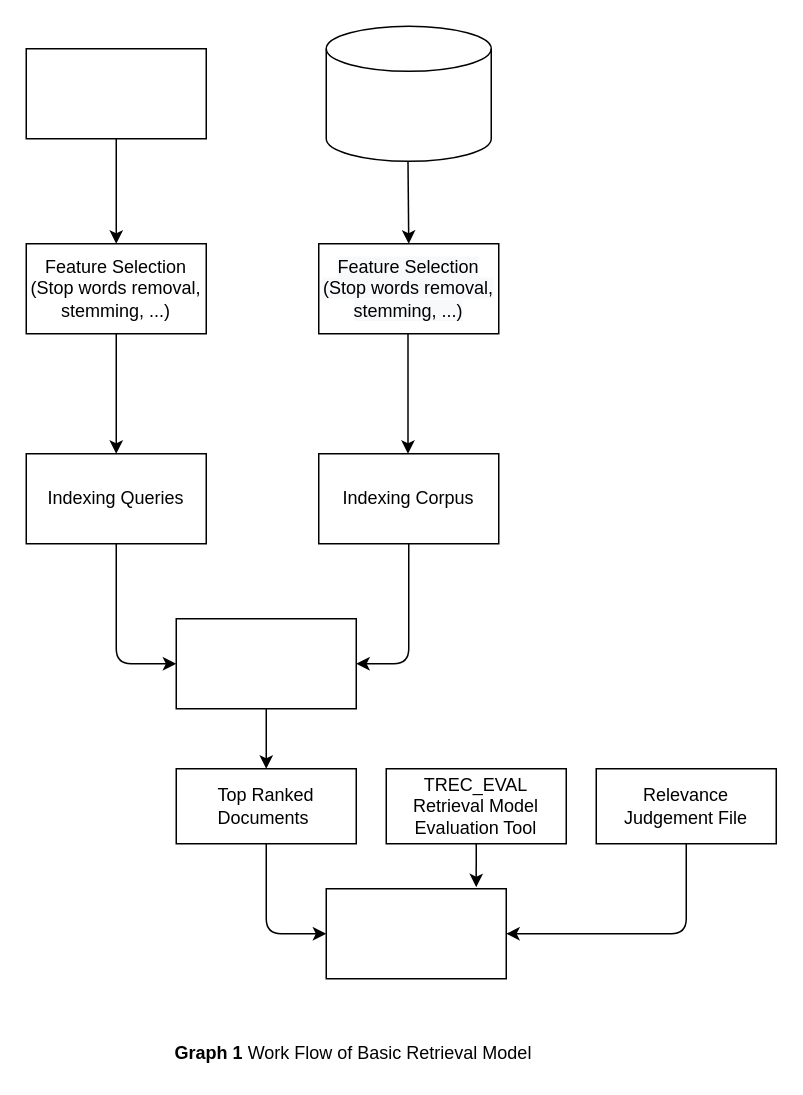
This 803x1095 diagram has some shape labels left out. Here are the shapes that lost their labels. From the top down, the centre of each, then its label:
point (115, 93): Query
point (408, 93): Document Corpus Collection
point (265, 663): Matching (BM25, ...)
point (415, 933): Results of Retrieval Model Measurement
